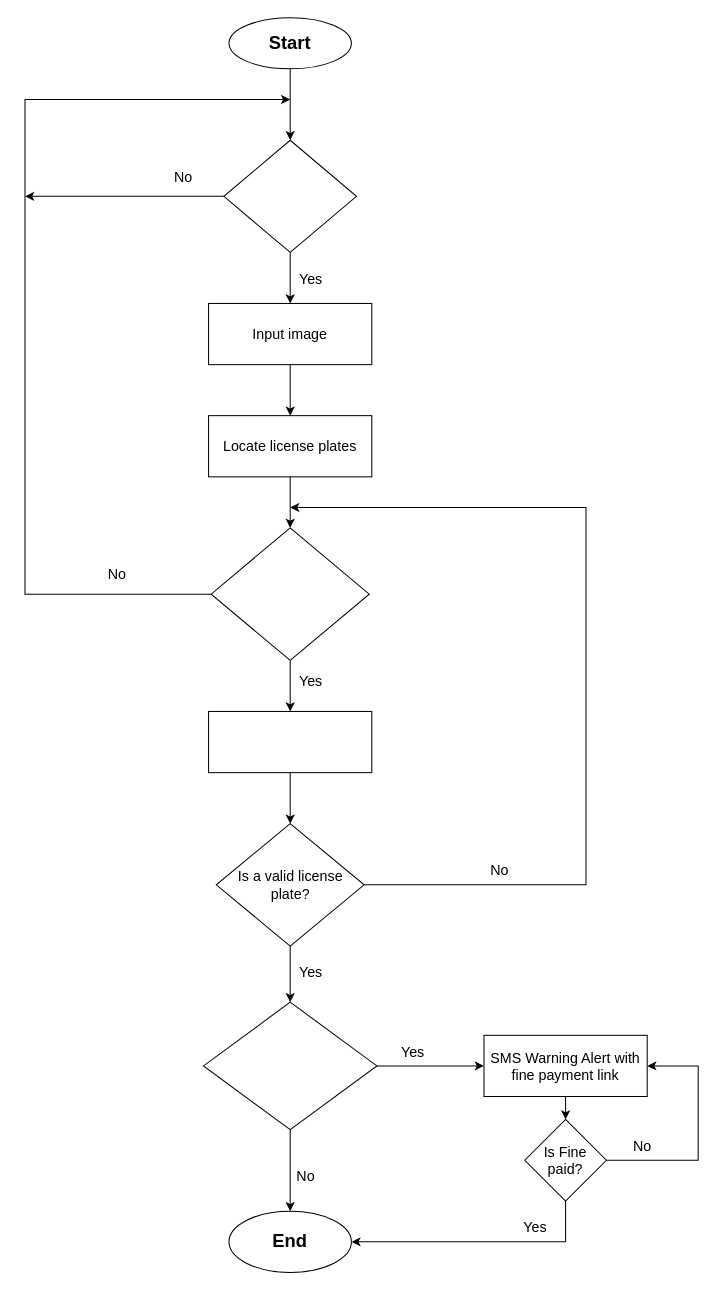
This 724x1290 diagram has some shape labels left out. The shapes that lost their labels are listed below. From the top down, each one's centre as x and y in pixels, then its label:
At point 289,195: "Is the camera activated?".
At point 289,593: "Is there any license plate?".
At point 290,741: "Identify license number".
At point 289,1065: "Is there any traffic violation?".
